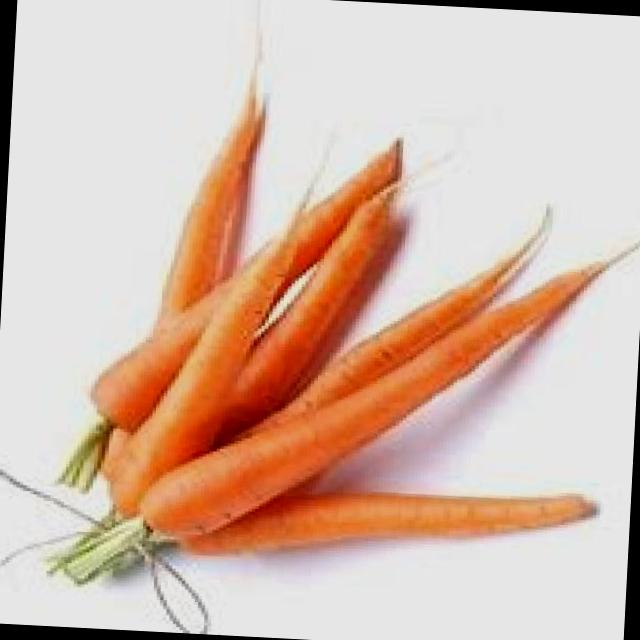carrot: (131, 265, 601, 546), (105, 179, 325, 525), (183, 494, 599, 557)
